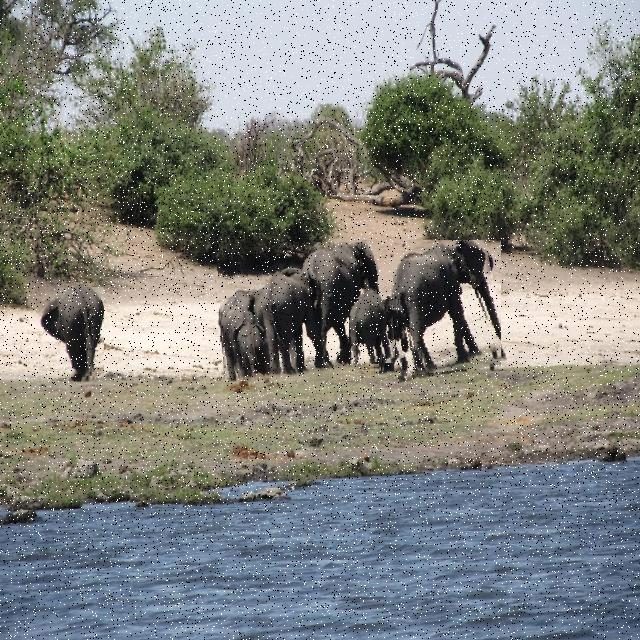elephant: (218, 242, 379, 380), (379, 240, 501, 378), (37, 287, 104, 378), (350, 299, 400, 365)
